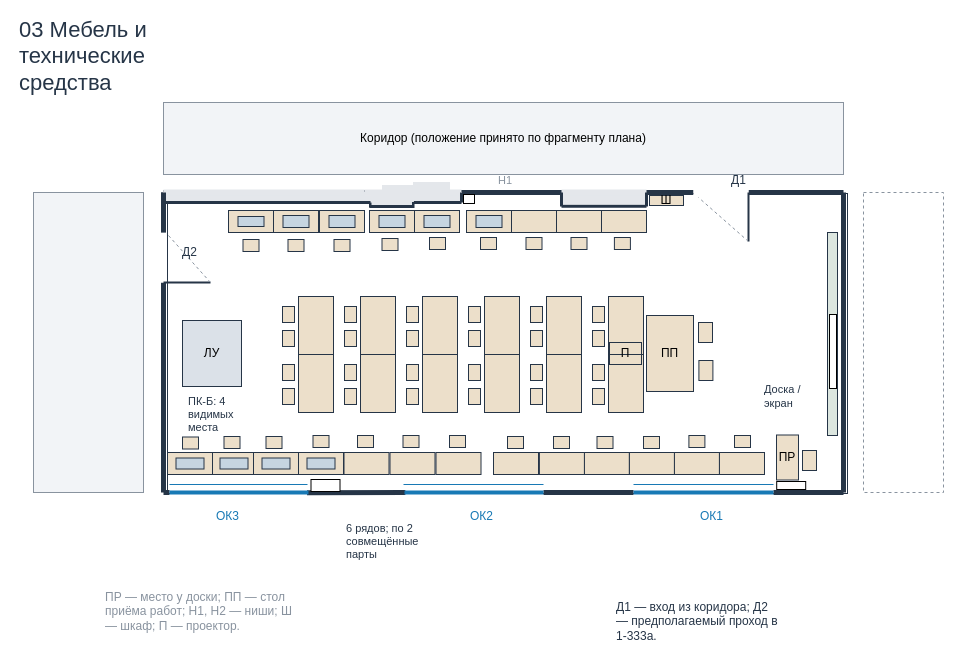
The diagram is 961 pixels wide and 660 high, and some of its shapes have lost their labels. The centre of each missing label's shape, as x and y in pixels:
"1-333а Внутренний план неизвестен" goes at (88,342).
"Смежное помещение Номер неизвестен" goes at (903,342).
